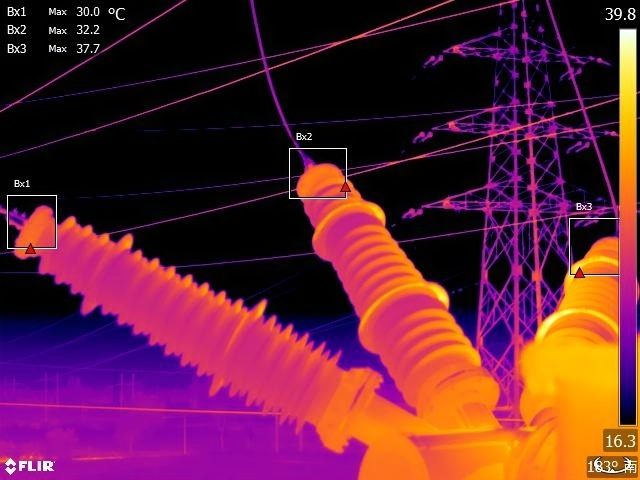tube: (8, 205, 345, 439), (296, 158, 499, 412), (529, 222, 616, 400)
